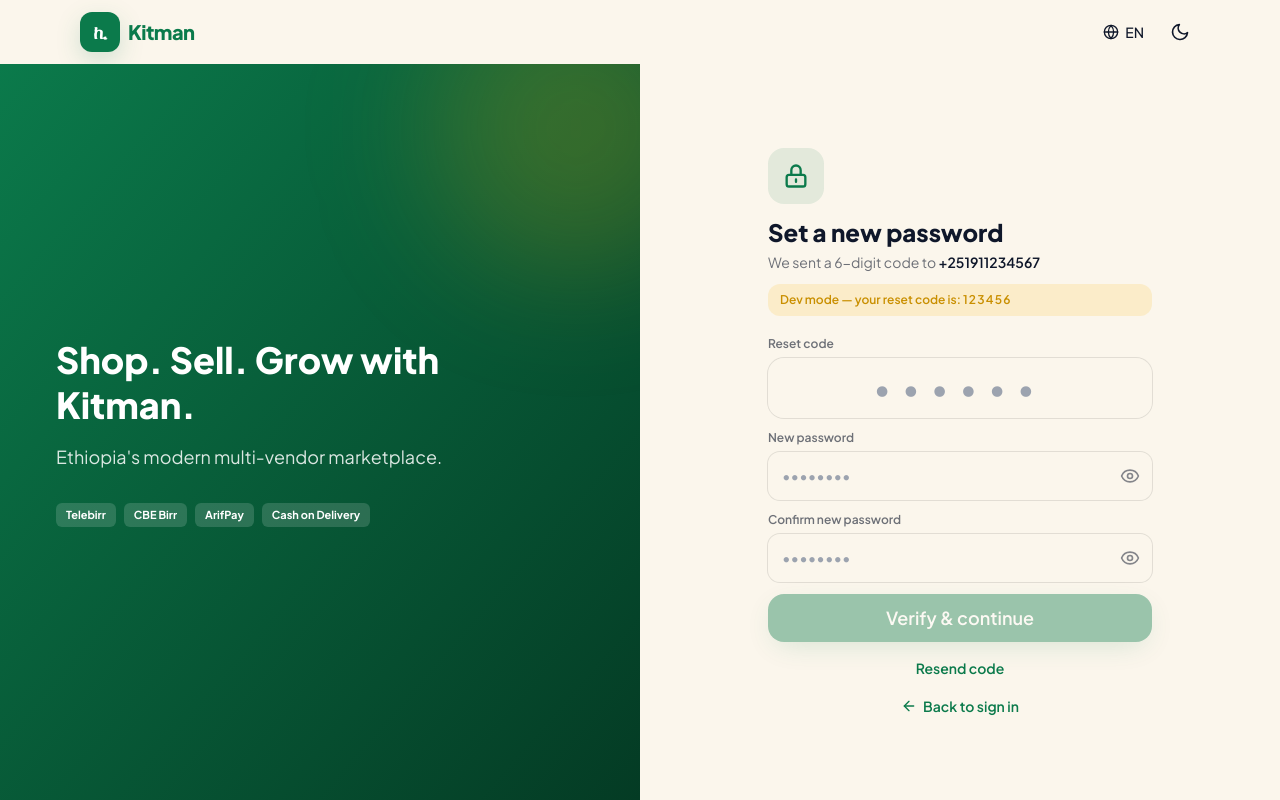
it: ResetPassword › validates that the two password fields match
Type "111111" into the field with placeholder "••••••".
click(960, 388); type("111111")  # box [768, 358, 1152, 418]
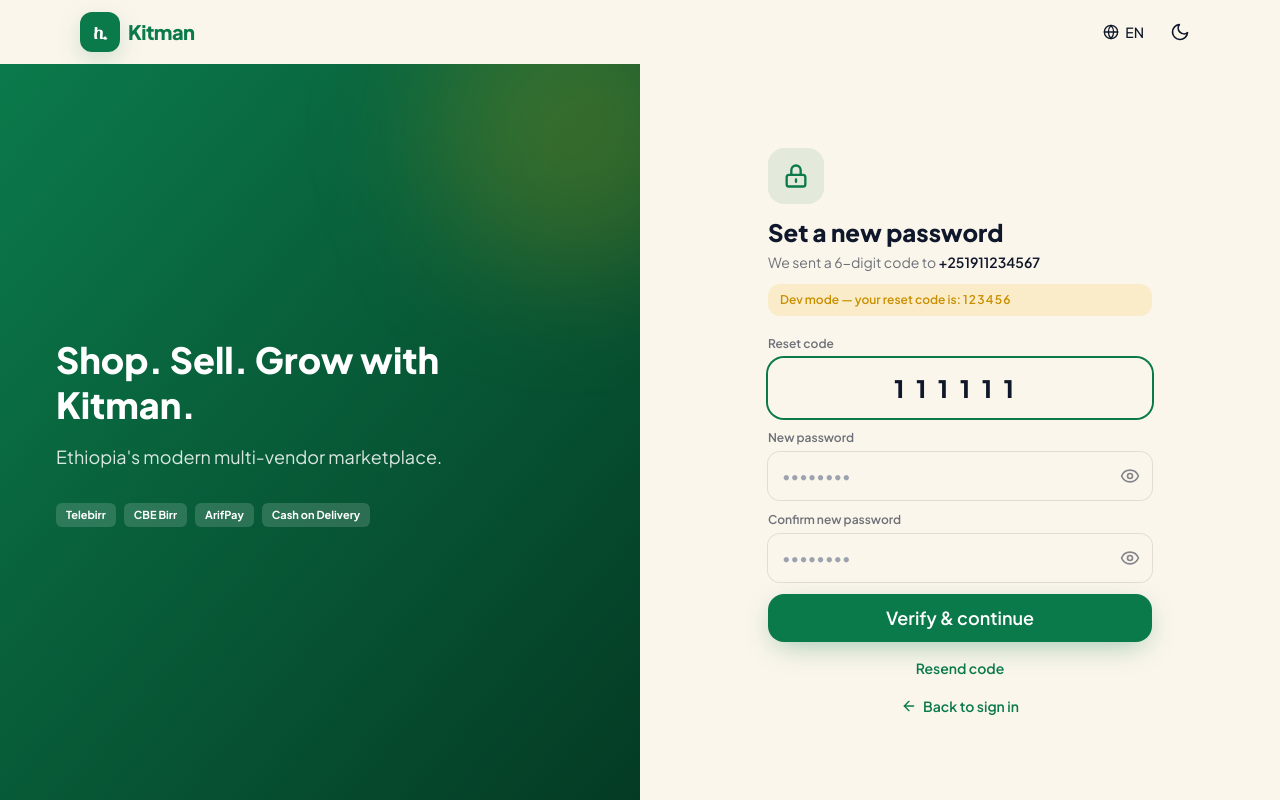
Type "longenough1" into the password field labelled "New password".
click(938, 476); type("longenough1")  # box [768, 452, 1108, 500]
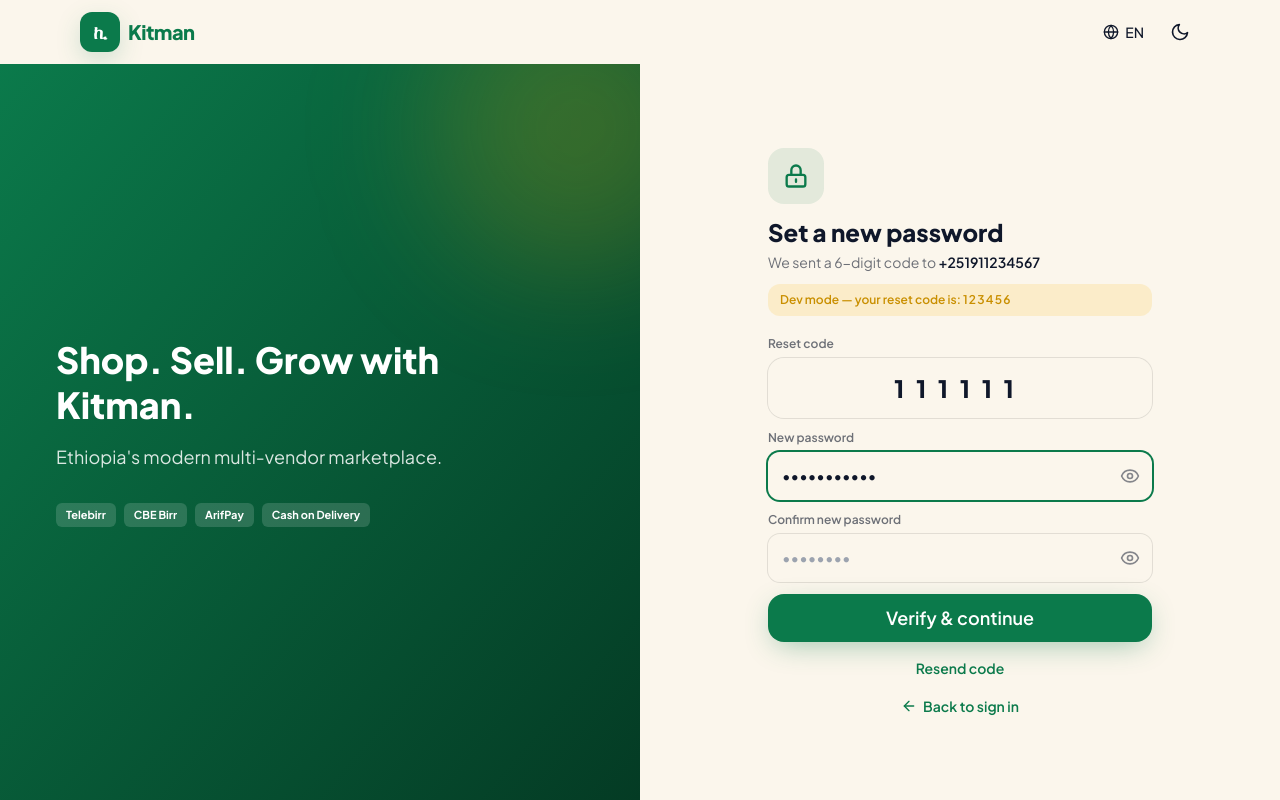
Type "longenough2" into the password field labelled "Confirm new password".
click(938, 558); type("longenough2")  # box [768, 534, 1108, 582]
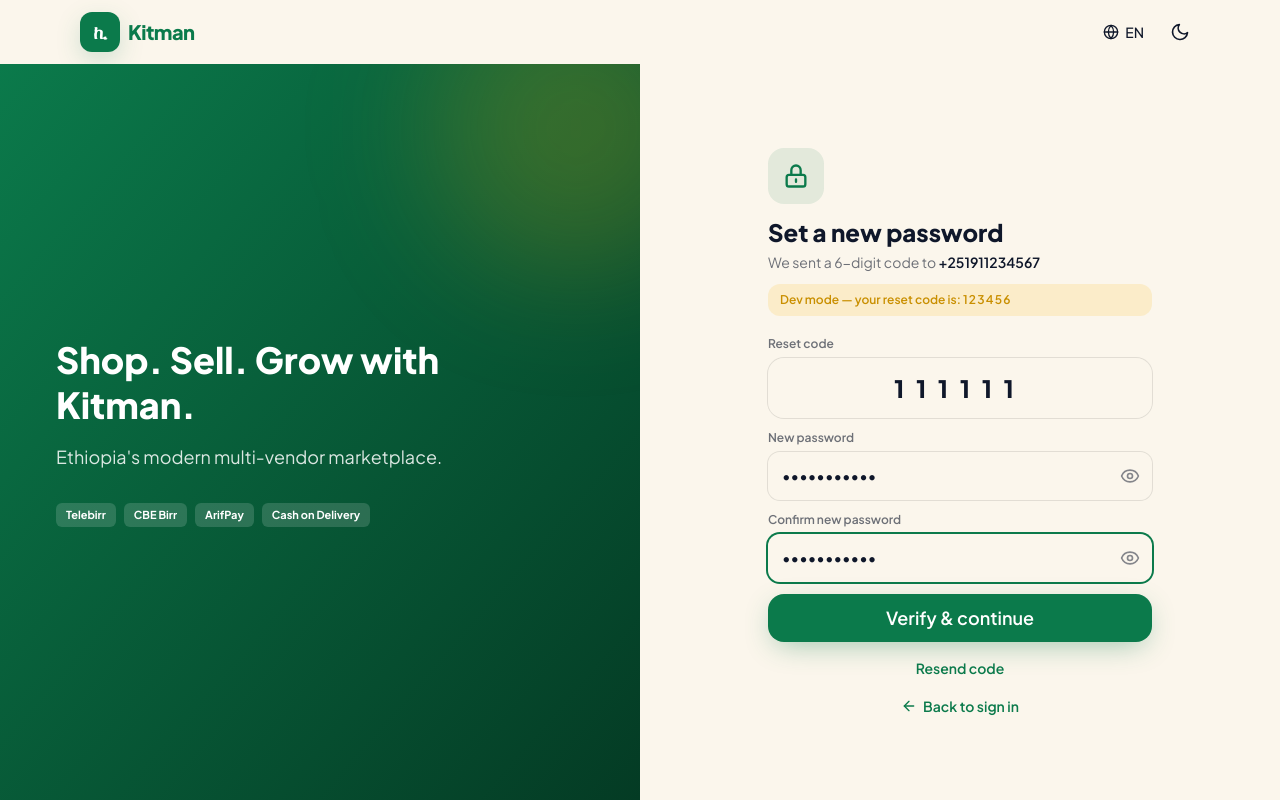
Click the button "Verify & continue".
click(960, 618)  # box [768, 594, 1152, 642]
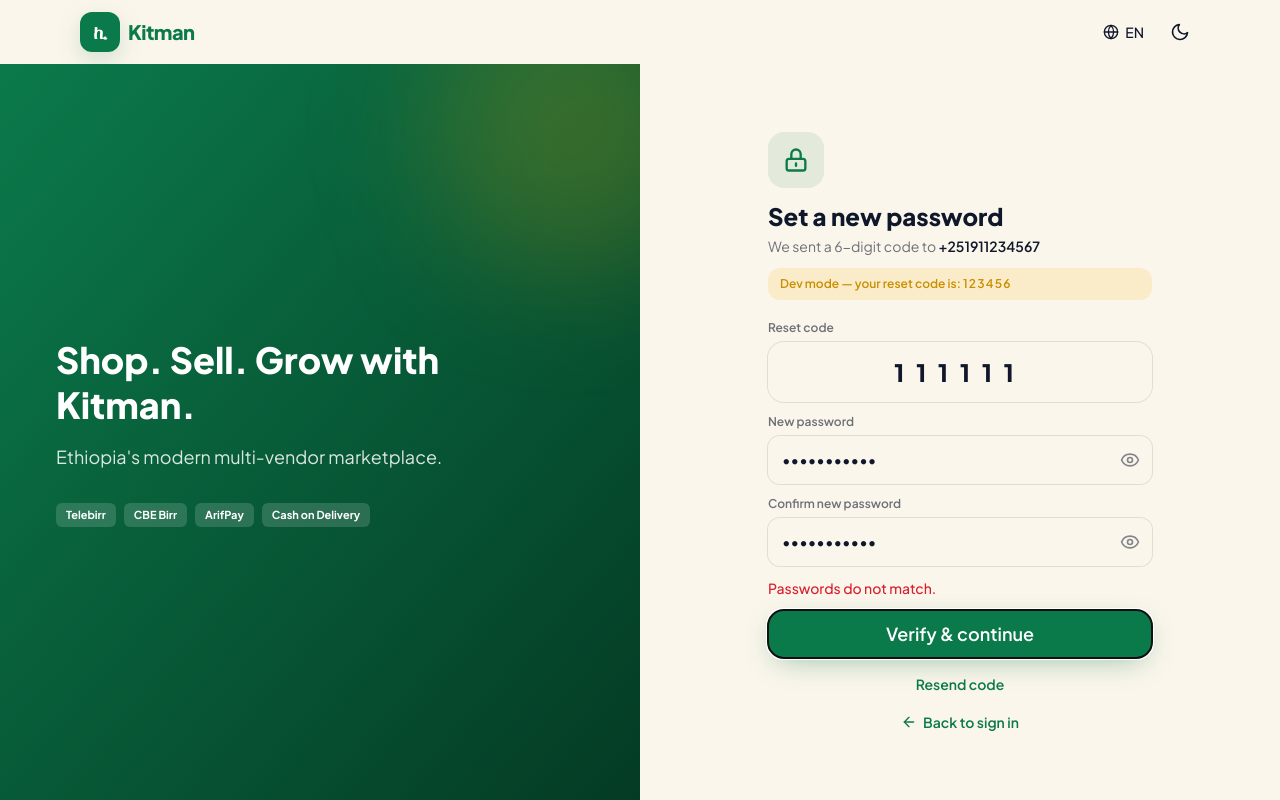
Now the text "Passwords do not match." is shown, box [768, 579, 936, 597]
